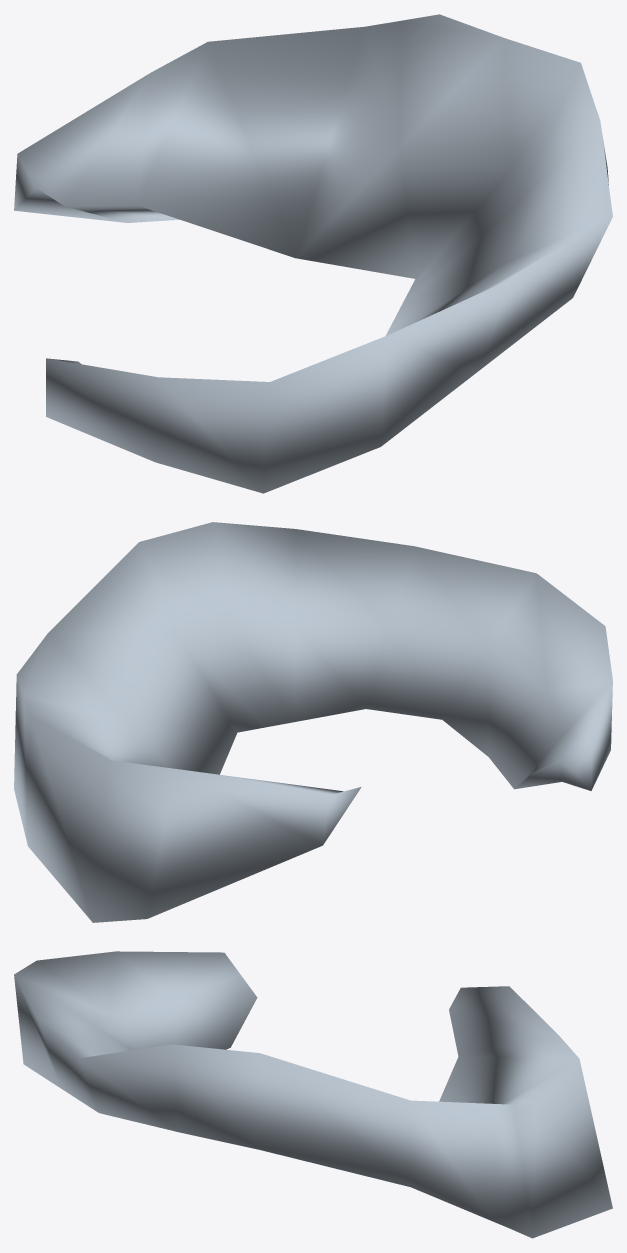
The model's file is lateral-meniscus-l.glb.
3 views of the same model, one above another, from view 1: azimuth 30°, elevation 25°; view 2: azimuth 150°, elevation 25°; view 3: azimuth 270°, elevation 25° (orthographic). The views are drawn at different scales.
Visible parts, largest first — view 1: Lateral meniscus.l; view 2: Lateral meniscus.l; view 3: Lateral meniscus.l.
Part boxes in pixels (box(x1,y1,x2,y2)): Lateral meniscus.l: box(14, 14, 612, 493); Lateral meniscus.l: box(14, 522, 612, 922); Lateral meniscus.l: box(14, 951, 612, 1238).
Size of the model in its own units: 0.0348 by 0.016 by 0.0398.
